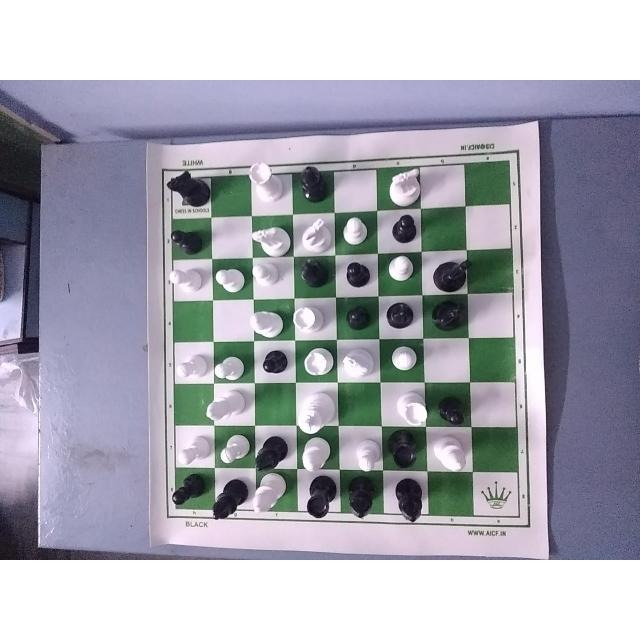black-bishop: (207, 475, 243, 527), (391, 475, 428, 525), (342, 479, 378, 528), (379, 297, 419, 337), (253, 432, 291, 474), (297, 161, 329, 205), (294, 258, 330, 289)
black-knight: (165, 167, 209, 216), (429, 293, 471, 332), (431, 255, 470, 291)
black-pawn: (435, 394, 476, 432), (338, 255, 377, 294), (168, 476, 212, 506), (387, 213, 423, 248), (341, 300, 376, 335), (168, 221, 203, 252), (259, 347, 289, 380)
black-rook: (388, 431, 426, 473), (304, 471, 334, 519)
white-bishop: (434, 431, 476, 475), (248, 304, 292, 346), (204, 386, 248, 428), (249, 472, 286, 519), (294, 434, 333, 478)
white-king: (298, 385, 337, 441)
white-knight: (249, 215, 293, 256), (386, 161, 421, 209), (299, 217, 339, 253), (341, 344, 377, 382)
white-pawn: (384, 253, 420, 292), (167, 264, 207, 299), (174, 346, 212, 382), (219, 429, 253, 469), (209, 352, 248, 386), (214, 262, 252, 296), (250, 259, 288, 293), (172, 435, 211, 466), (388, 348, 428, 376), (350, 440, 384, 472), (341, 217, 373, 249)
white-rook: (244, 154, 284, 201), (394, 388, 432, 432), (299, 344, 338, 380), (290, 299, 327, 335)
